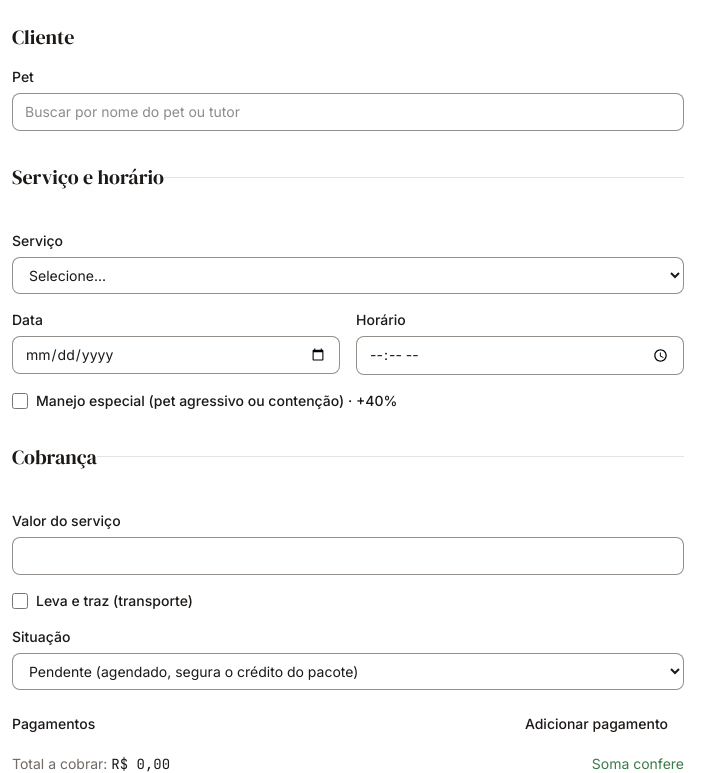
it: AtendimentoForm › não deixa salvar enquanto a busca do pacote não volta
In the dropdown labelled "Pet": (348, 112) [12, 93, 684, 131], type "Luna"
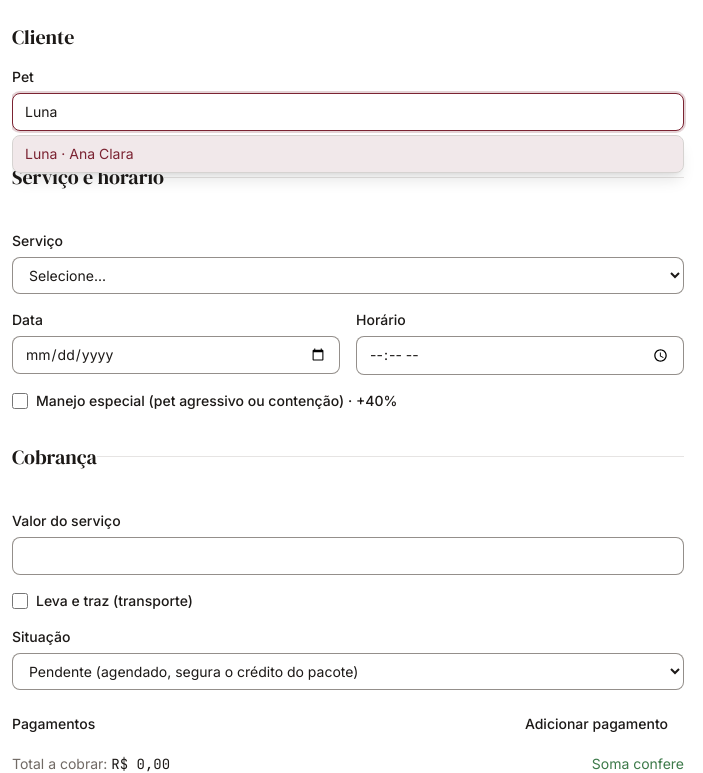
expect the option "Luna · Ana Clara" is shown: met
Click the option "Luna · Ana Clara": (79, 154) [13, 136, 683, 172]
(page scrolled)
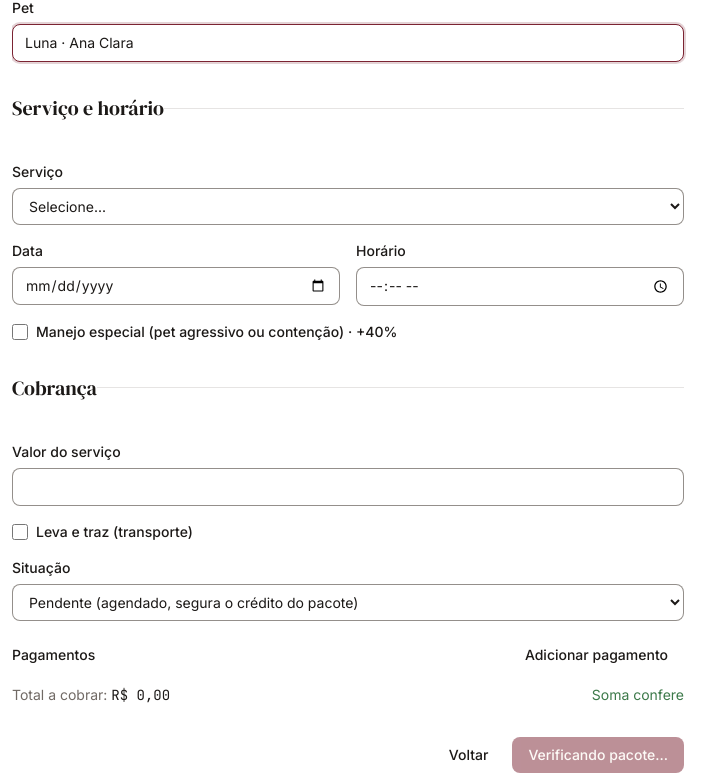
expect the button "Verificando pacote..." is disabled: met, box [512, 737, 684, 772]
